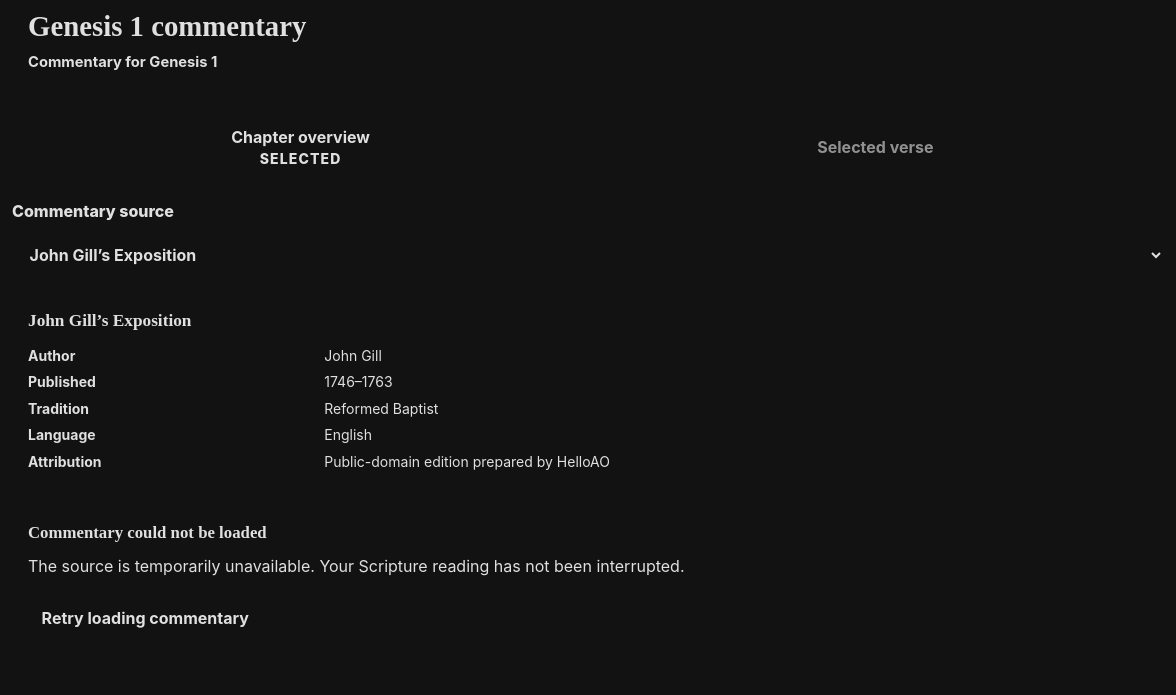
Test: CommentaryPanel availability and reading tools › shows a safe error and retries the exact request
Expected: the message shows "Commentary could not be loaded", [28,523,267,542]
Click the button "Retry loading commentary". click: x=145, y=618
box: [28,594,262,642]
(page scrolled)
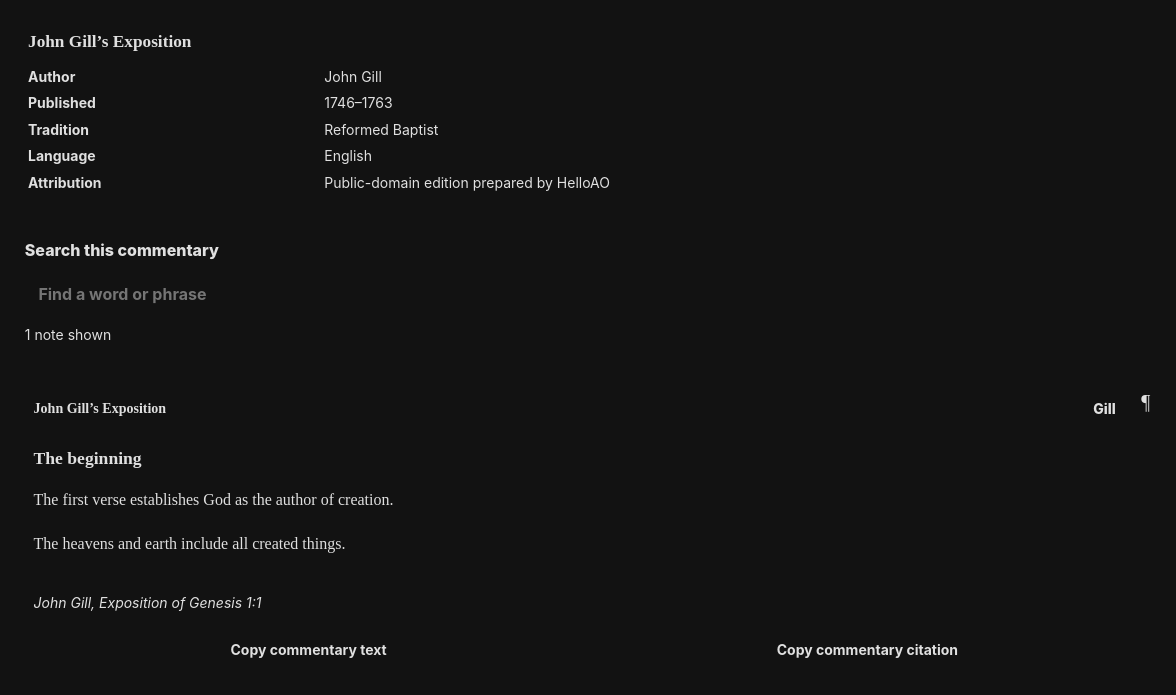
Expected: the text "The first verse establishes God as the author of creation." is shown, [34,491,394,508]
